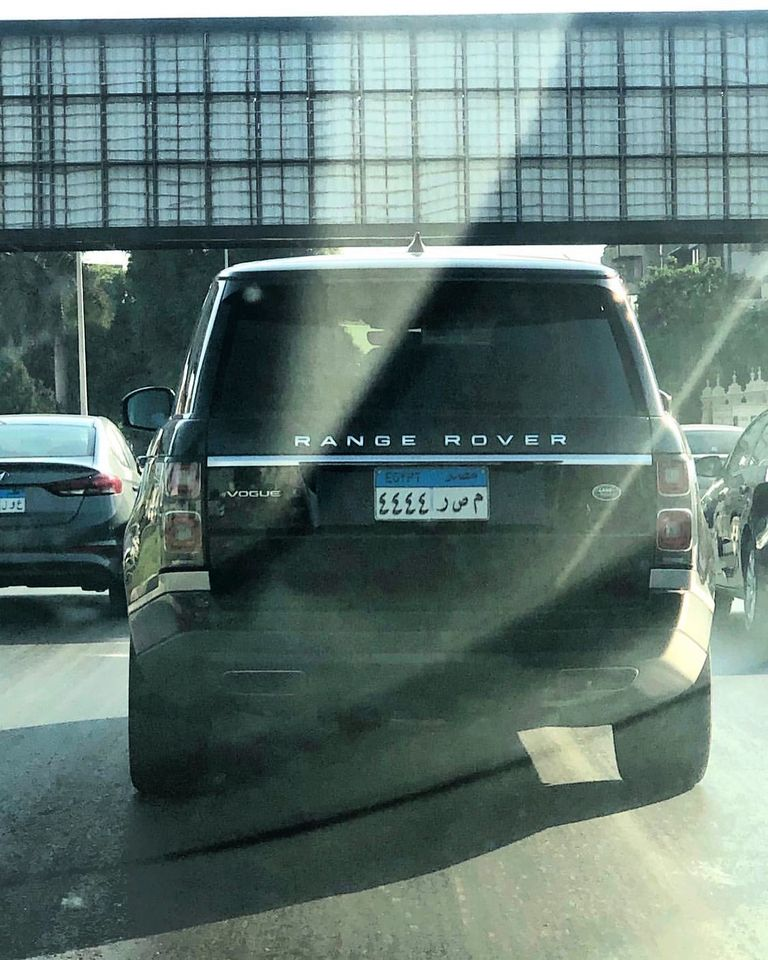carpl: (369, 480, 497, 522)
